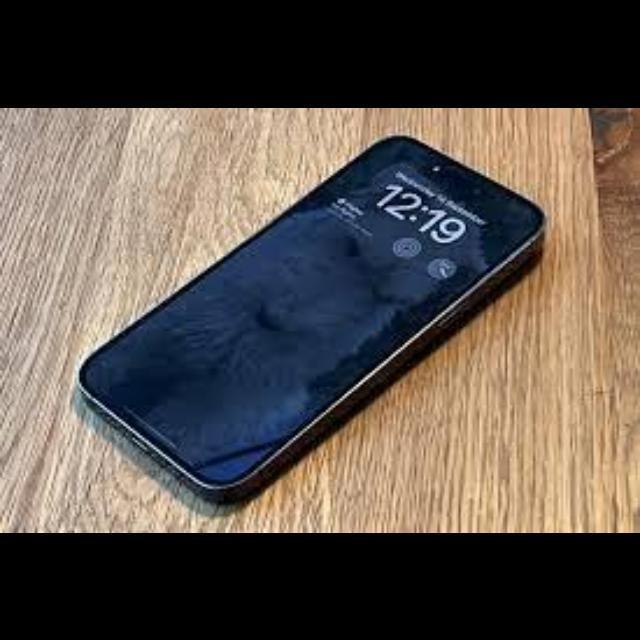PhoneUse: (77, 135, 547, 502)
